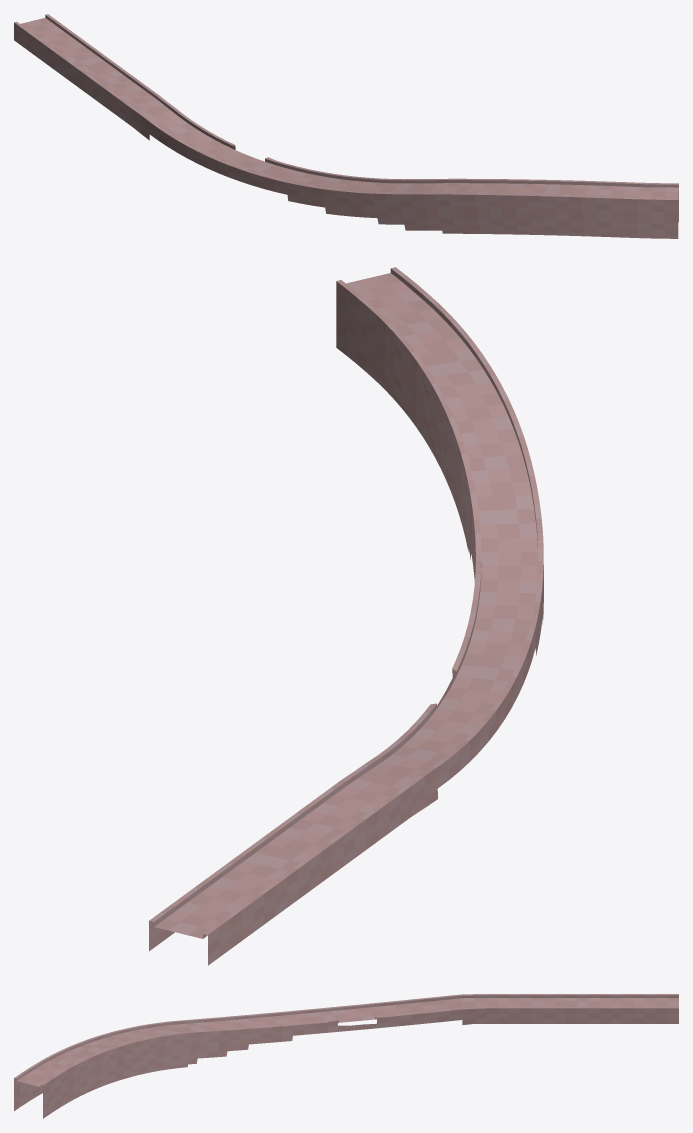
File: Map_WindingPath01.fbx
3 views of the same model, one above another, from view 1: azimuth 30°, elevation 25°; view 2: azimuth 150°, elevation 25°; view 3: azimuth 270°, elevation 25° (orthographic). The views are drawn at different scales.
Parts seen in each view (by area): view 1: MSH_PathStairs_Narrow_Medium12, MSH_PathStairs_Narrow_Medium13; view 2: MSH_PathStairs_Narrow_Medium12, MSH_PathStairs_Narrow_Medium13; view 3: MSH_PathStairs_Narrow_Medium12, MSH_PathStairs_Narrow_Medium13.
Part boxes in pixels (left/top/right/bottom): MSH_PathStairs_Narrow_Medium12: left=53, top=43, right=678, bottom=238; MSH_PathStairs_Narrow_Medium13: left=14, top=14, right=86, bottom=68; MSH_PathStairs_Narrow_Medium12: left=217, top=267, right=543, bottom=915; MSH_PathStairs_Narrow_Medium13: left=149, top=871, right=275, bottom=965; MSH_PathStairs_Narrow_Medium12: left=14, top=994, right=610, bottom=1118; MSH_PathStairs_Narrow_Medium13: left=611, top=994, right=678, bottom=1023.
Bounding box in the file's own units: 2588 × 485 × 5875.
